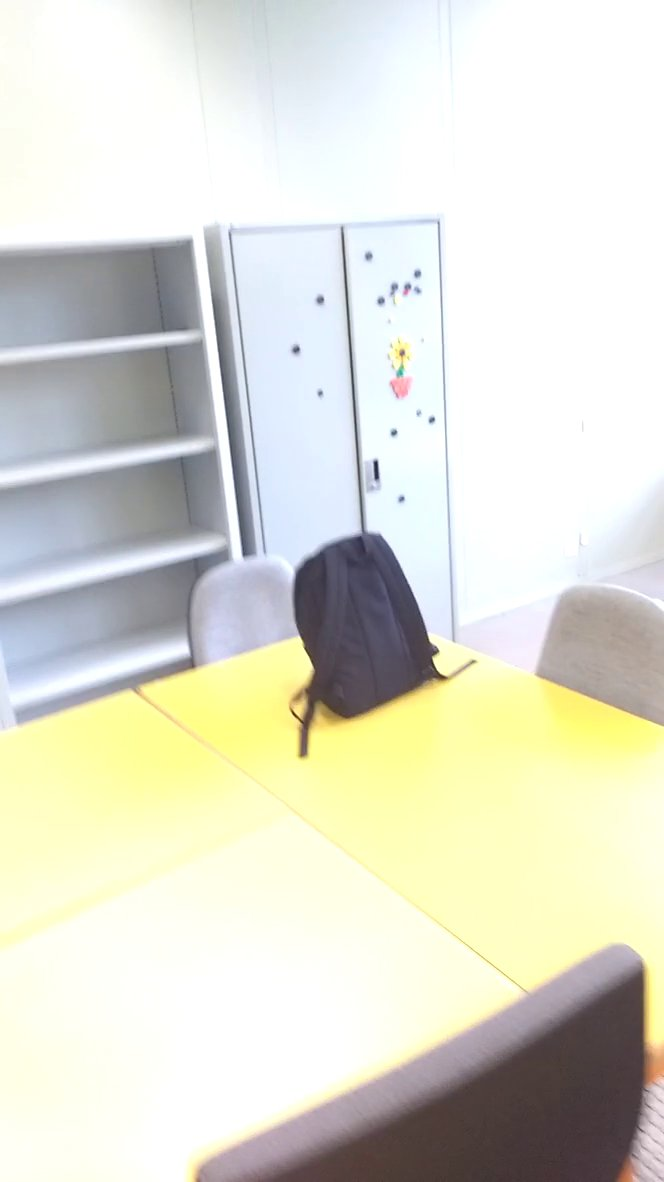bag: (285, 525, 484, 764)
chair: (525, 570, 664, 741), (182, 546, 327, 669)
